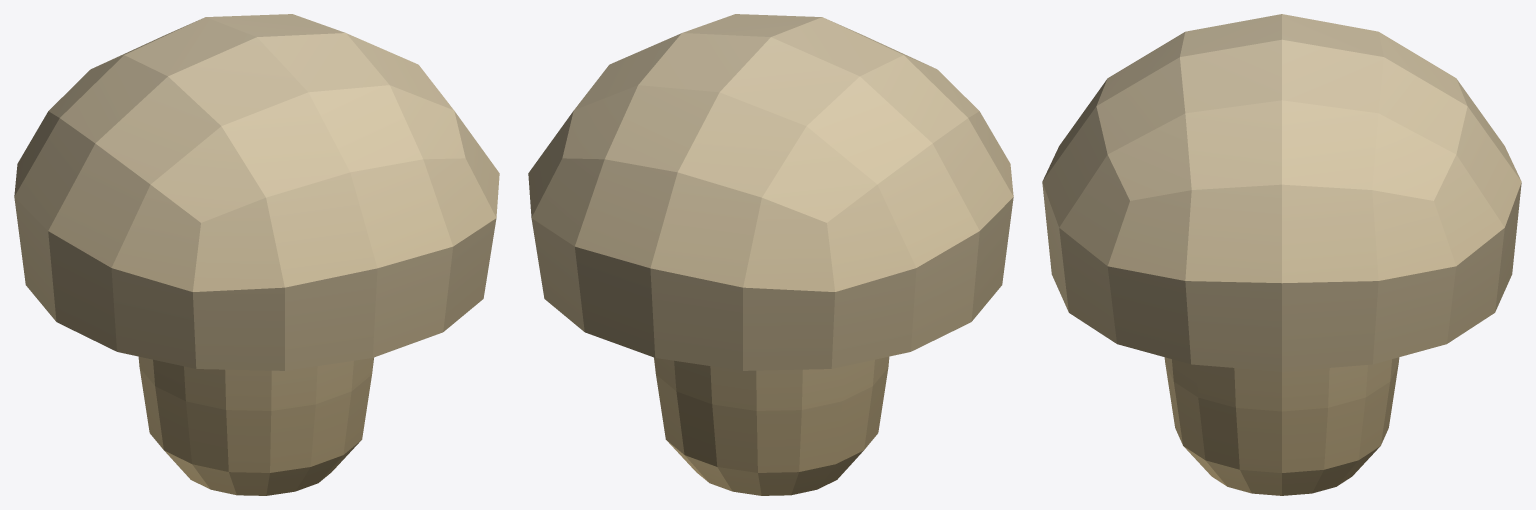
The model's file is mushroom_1a.fbx.
3 views of the same model, side by side, from view 1: azimuth 30°, elevation 25°; view 2: azimuth 150°, elevation 25°; view 3: azimuth 270°, elevation 25° (orthographic).
Visible parts, largest first — view 1: mushroom_1a; view 2: mushroom_1a; view 3: mushroom_1a.
Boxes of the visible parts, left/top/right/bottom form: mushroom_1a: left=14, top=14, right=499, bottom=495; mushroom_1a: left=528, top=14, right=1013, bottom=495; mushroom_1a: left=1042, top=14, right=1521, bottom=495.
Bounding box in the file's own units: 0.0617 × 0.0602 × 0.0617.
